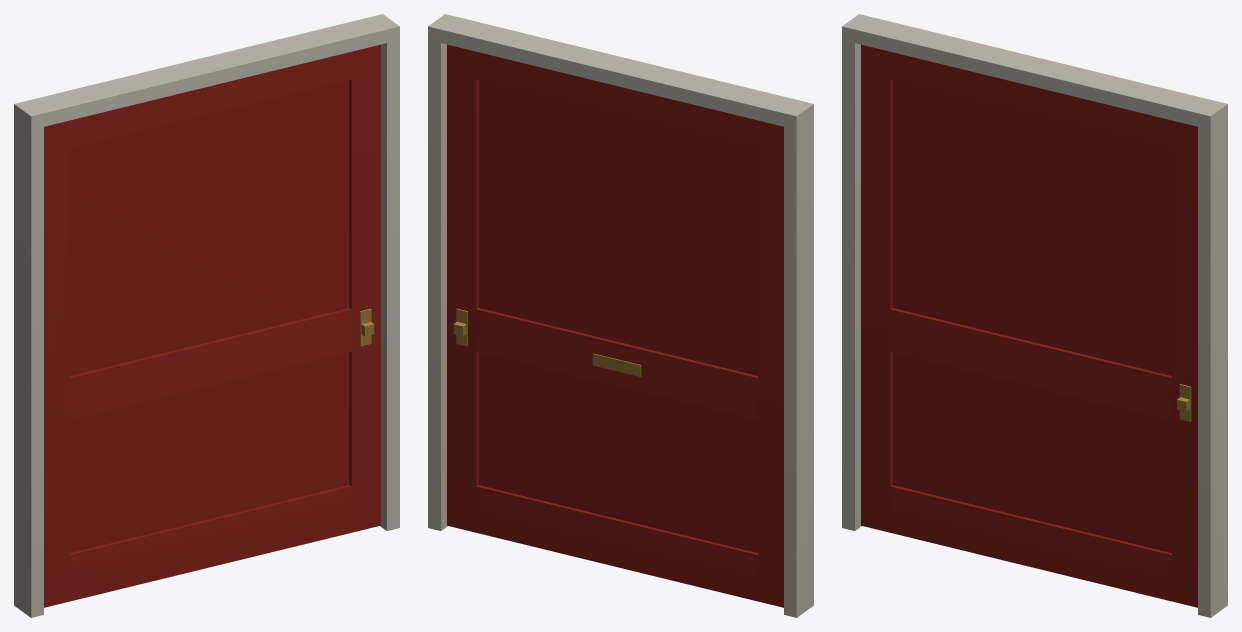
The model's file is door.painted.red.glb.
3 views of the same model, side by side, from view 1: azimuth 30°, elevation 25°; view 2: azimuth 150°, elevation 25°; view 3: azimuth 330°, elevation 25° (orthographic).
Visible parts, largest first — view 1: door_painted_red; view 2: door_painted_red; view 3: door_painted_red.
Boxes of the visible parts, bbox=[...] form: door_painted_red: bbox=[14, 14, 399, 617]; door_painted_red: bbox=[428, 14, 813, 617]; door_painted_red: bbox=[842, 14, 1227, 617].
Size of what is drawn, in the model's own units: 2 by 2.6 by 0.16.
